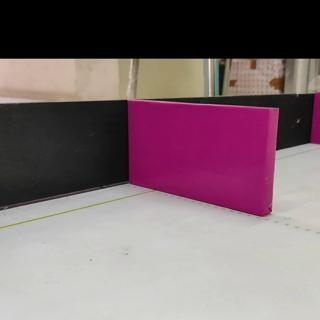xparking: (129, 109, 279, 205)
